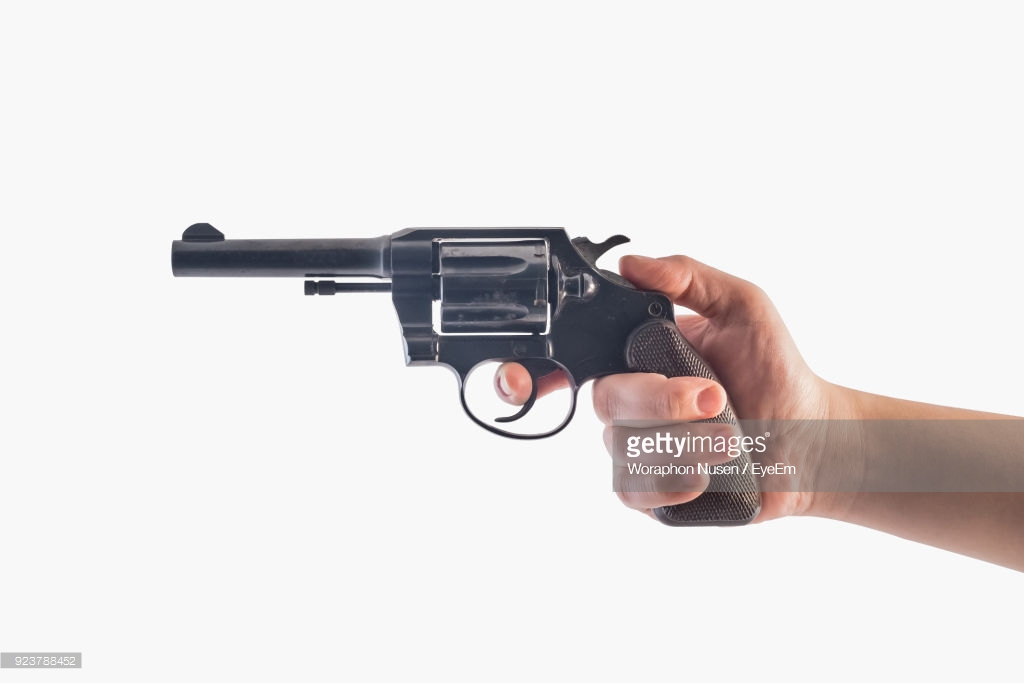pistol: (136, 174, 892, 581)
